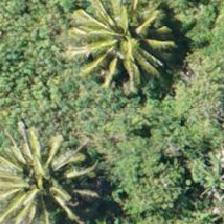coconut_tree: (19, 87, 109, 177), (88, 0, 178, 53)
